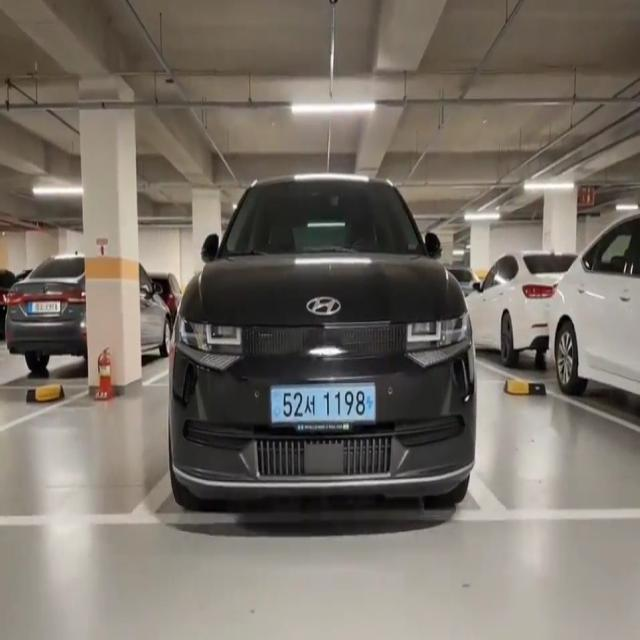car: (269, 381, 379, 432)
carev: (269, 385, 282, 429), (363, 386, 377, 424)
